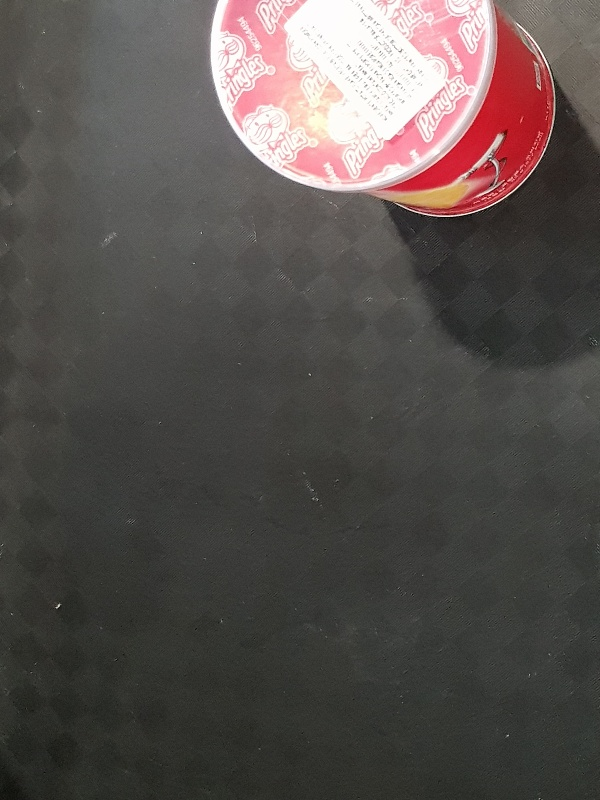Pringles Original: (207, 1, 557, 219)
